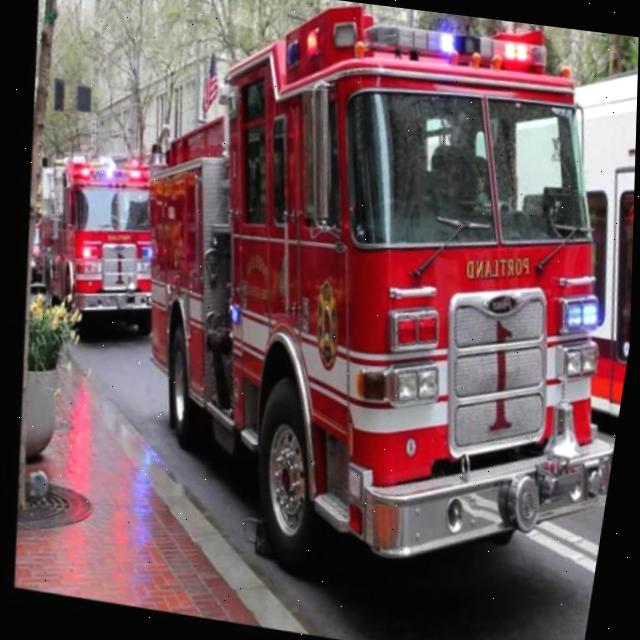emergency: (92, 0, 640, 604), (19, 136, 179, 338)
